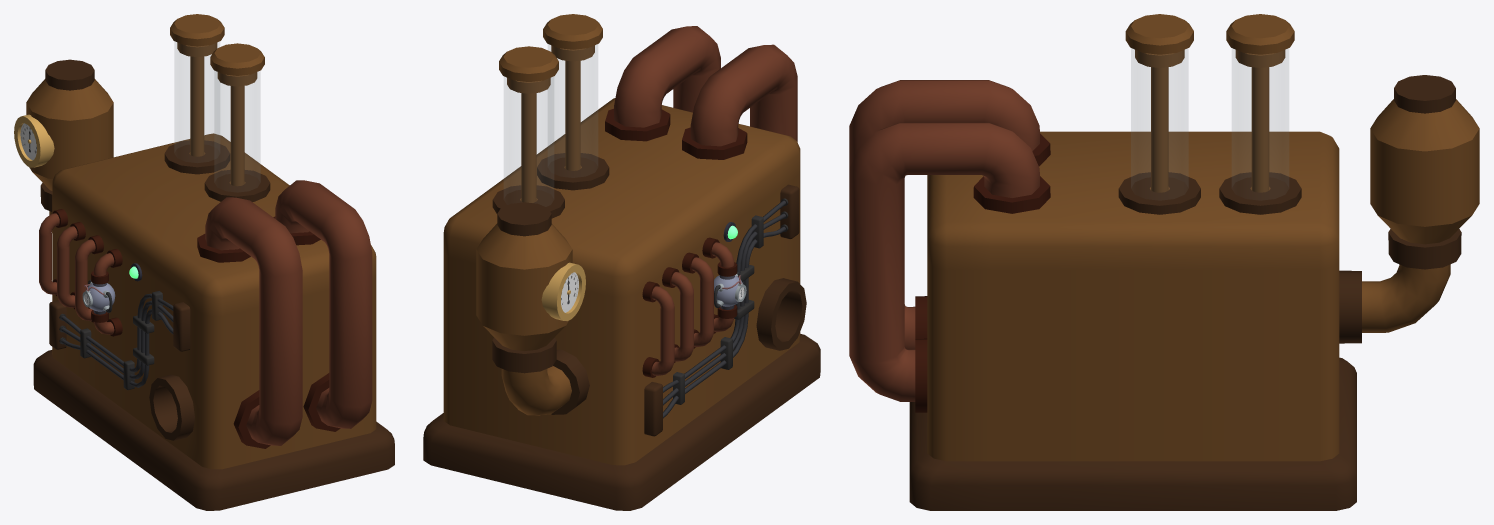
Rendered from Generator.fbx.
3 views of the same model, side by side, from view 1: azimuth 30°, elevation 25°; view 2: azimuth 150°, elevation 25°; view 3: azimuth 270°, elevation 25° (orthographic). The views are drawn at different scales.
Visible parts, largest first — view 1: Generator_Body, Generator_Piston_R, Generator_Piston_L, Generator_Steamcore_Body; view 2: Generator_Body, Generator_Piston_L, Generator_Piston_R, Generator_Steamcore_Body; view 3: Generator_Body, Generator_Piston_L, Generator_Piston_R.
Boxes of the visible parts, x1=… form: Generator_Body: x1=14, y1=14, x2=394, y2=510; Generator_Piston_R: x1=217, y1=72, x2=257, y2=186; Generator_Piston_L: x1=177, y1=42, x2=217, y2=156; Generator_Steamcore_Body: x1=82, y1=279, x2=115, y2=314; Generator_Body: x1=423, y1=14, x2=820, y2=510; Generator_Piston_L: x1=507, y1=77, x2=550, y2=202; Generator_Piston_R: x1=551, y1=45, x2=594, y2=170; Generator_Steamcore_Body: x1=714, y1=271, x2=746, y2=309; Generator_Body: x1=849, y1=14, x2=1479, y2=510; Generator_Piston_L: x1=1235, y1=50, x2=1285, y2=192; Generator_Piston_R: x1=1135, y1=49, x2=1184, y2=192.
Size of the model in its own units: 179 by 279 by 358.
19 materials, 2 textured.
